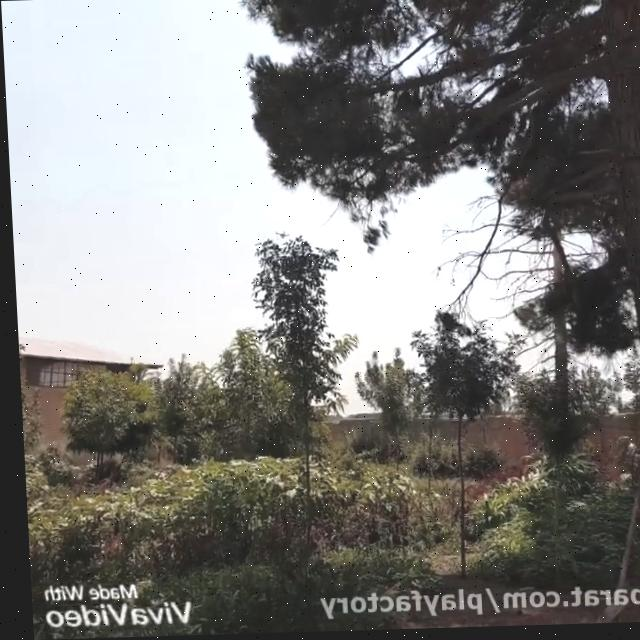drone: (268, 225, 289, 242)
